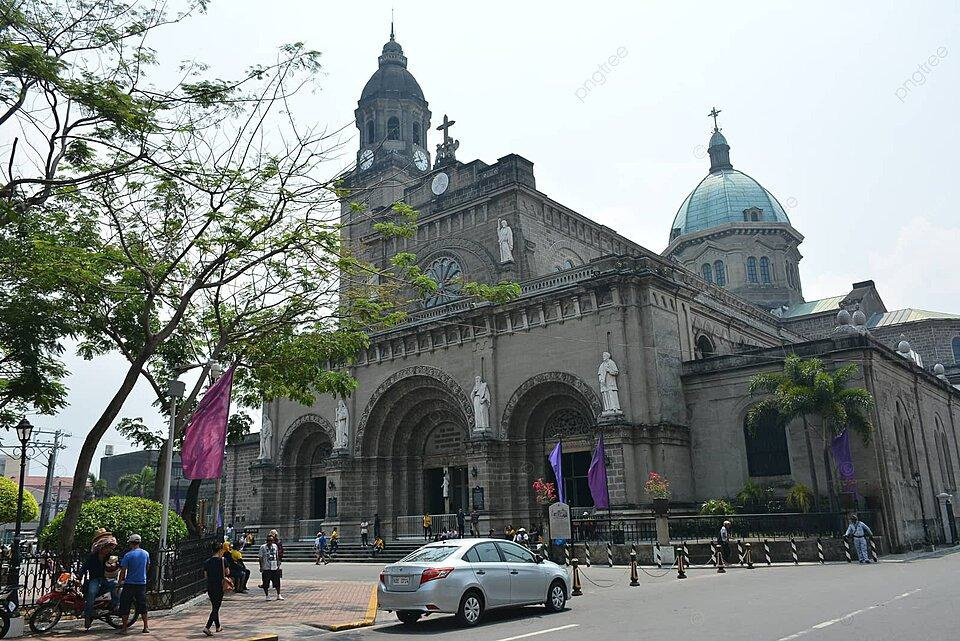manila_cathedral_church_intramuros_manila: (264, 10, 673, 543)
